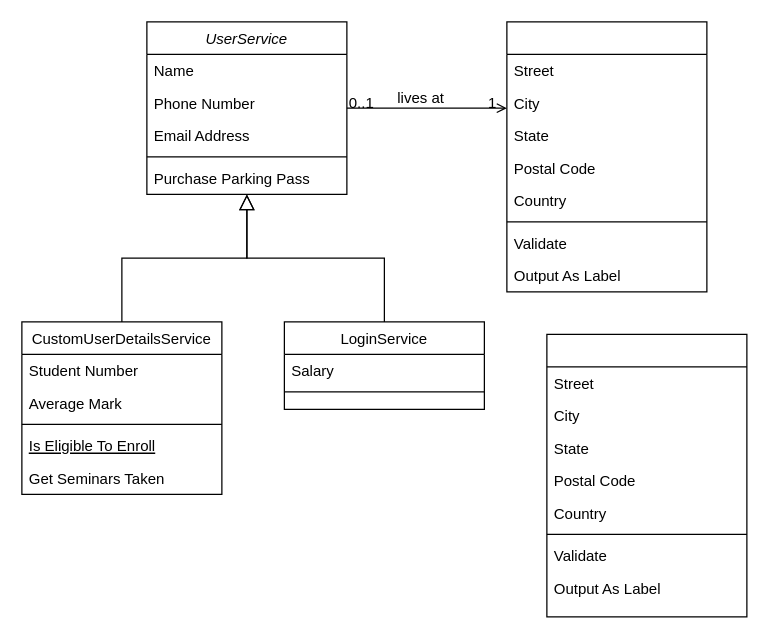
The diagram is 769 pixels wide and 639 high, and some of its shapes have lost their labels. The shapes that lost their labels are listed below. From the top down, each one's box as (x1, y1, x2, y2) in pixels, then its label:
(506, 21, 707, 292): AuthenticationService
(546, 333, 747, 617): LoginController
